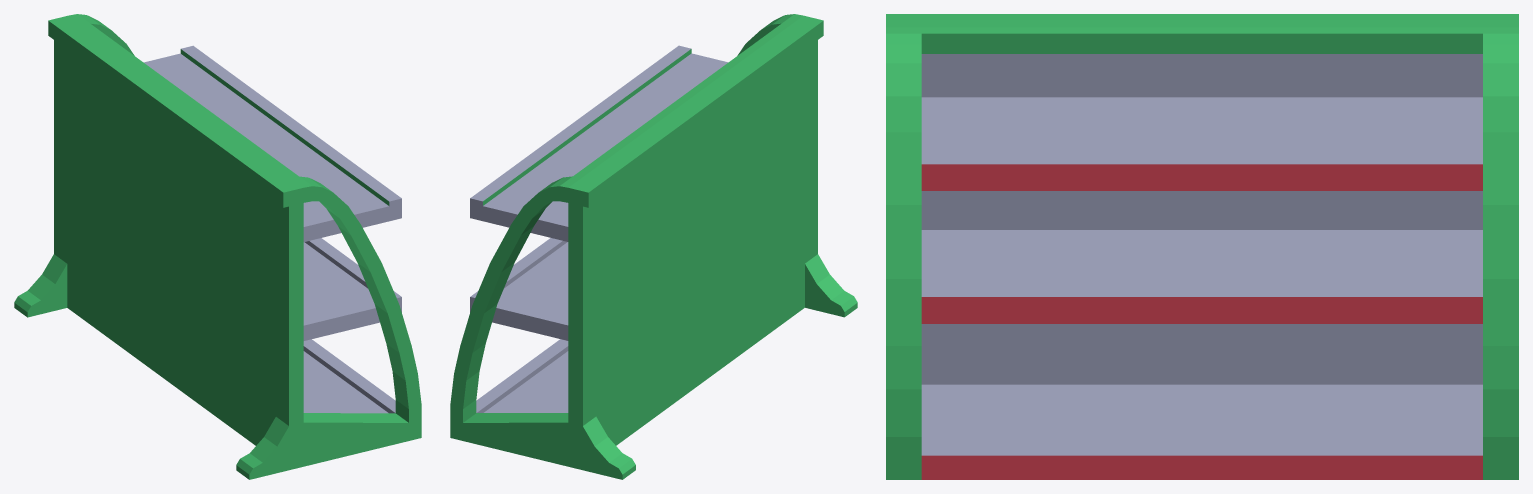
File: VER 2 counter shelf.fbx
3 views of the same model, side by side, from view 1: azimuth 30°, elevation 25°; view 2: azimuth 150°, elevation 25°; view 3: azimuth 270°, elevation 25° (orthographic). The views are drawn at different scales.
Parts seen in each view (by area): view 1: Cube.001; view 2: Cube.001; view 3: Cube.001.
Boxes of the visible parts, x1,y1,x2,y2 form: Cube.001: (14, 14, 421, 479); Cube.001: (450, 14, 857, 479); Cube.001: (886, 14, 1518, 479).
Size of the model in its own units: 1.94 by 4.59 by 3.01.
